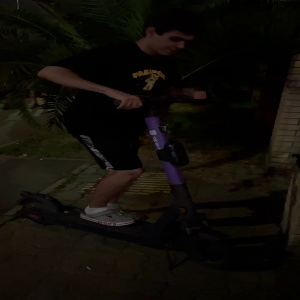human on a scooter: (10, 9, 237, 271)
